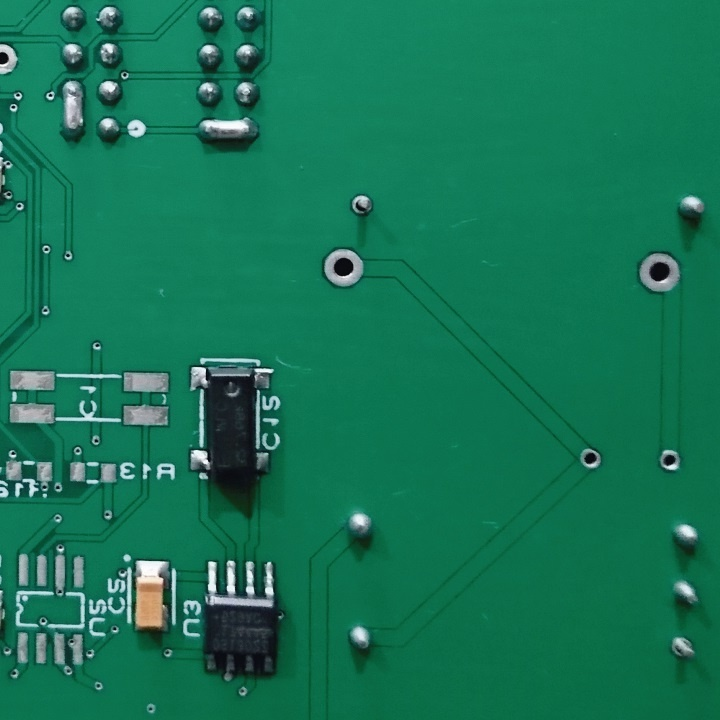F: (633, 246, 684, 295), (320, 243, 366, 289), (667, 633, 699, 669), (1, 38, 24, 80), (346, 189, 376, 219), (655, 444, 684, 475), (576, 444, 604, 475)
P: (192, 116, 264, 148), (57, 77, 89, 144)
